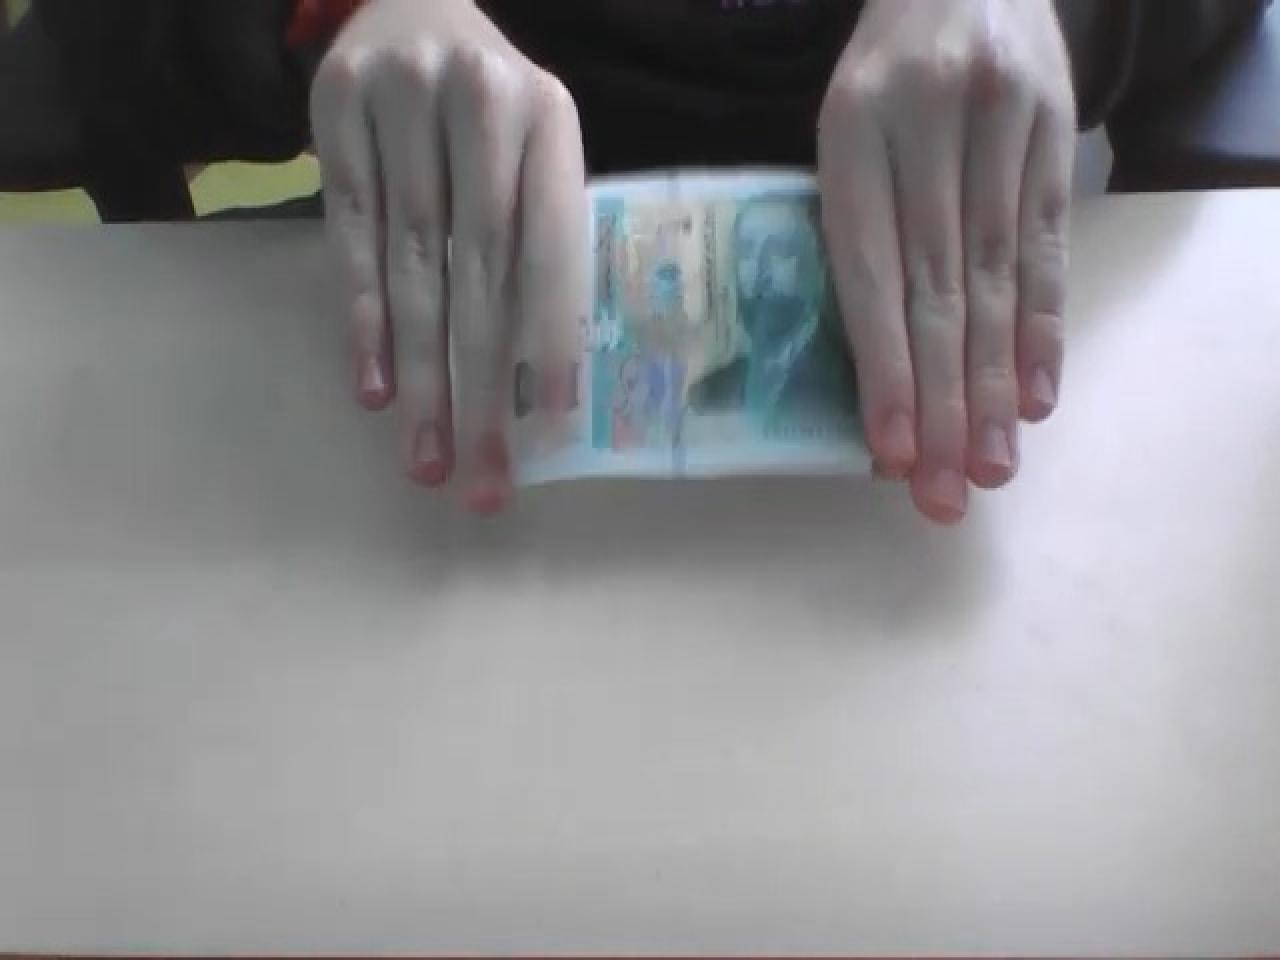100leva: (512, 165, 876, 488)
